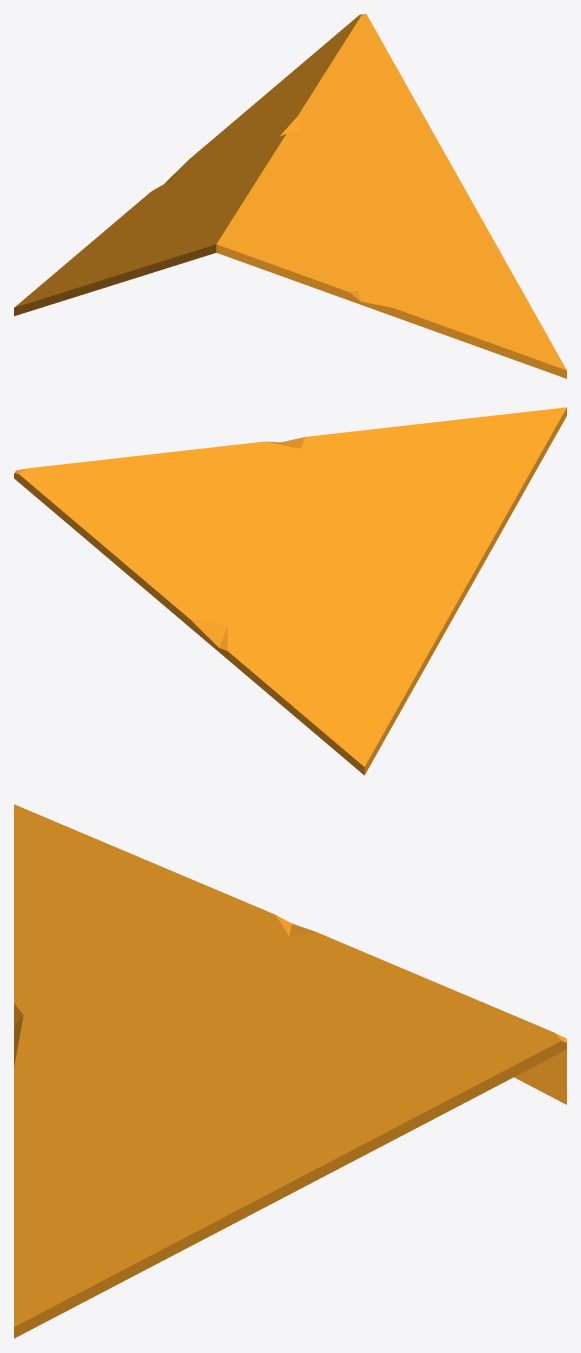
File: SM_Buildings_RoofAngledCornerMiddle_5x5_01P.fbx
3 views of the same model, one above another, from view 1: azimuth 30°, elevation 25°; view 2: azimuth 150°, elevation 25°; view 3: azimuth 270°, elevation 25° (orthographic). The views are drawn at different scales.
Parts seen in each view (by area): view 1: SM_Buildings_RoofAngledCornerMiddle_5x5_01P; view 2: SM_Buildings_RoofAngledCornerMiddle_5x5_01P; view 3: SM_Buildings_RoofAngledCornerMiddle_5x5_01P.
Boxes of the visible parts, bbox=[...] form: SM_Buildings_RoofAngledCornerMiddle_5x5_01P: bbox=[14, 14, 566, 378]; SM_Buildings_RoofAngledCornerMiddle_5x5_01P: bbox=[14, 407, 566, 775]; SM_Buildings_RoofAngledCornerMiddle_5x5_01P: bbox=[14, 804, 566, 1338].
Size of the model in its own units: 500 by 300 by 500.
